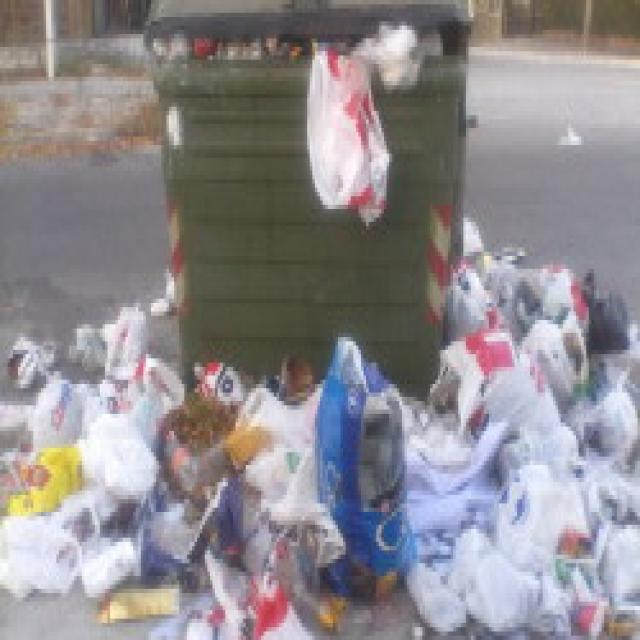garbage: (133, 347, 638, 640), (0, 301, 148, 630), (444, 220, 640, 370), (287, 26, 397, 234)
